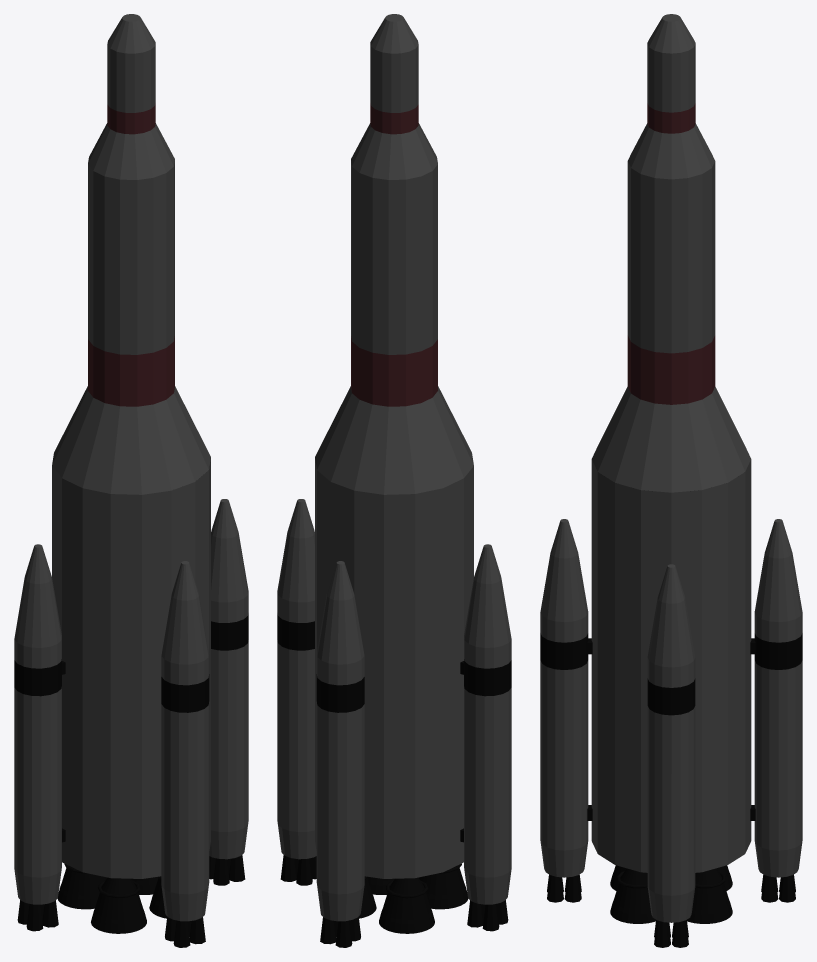
The model's file is Rumraket_boosters.fbx.
3 views of the same model, side by side, from view 1: azimuth 30°, elevation 25°; view 2: azimuth 150°, elevation 25°; view 3: azimuth 270°, elevation 25° (orthographic).
Visible parts, largest first — view 1: Stage1Rocket, Stage2Rocket, Stage1Booster_4, Stage1Booster_3, Stage1Booster_1, Stage2ThrusterProtection_L, Stage3FlightDeck, Stage3ThrusterProtection_L; view 2: Stage1Rocket, Stage2Rocket, Stage1Booster_2, Stage1Booster_3, Stage1Booster_1, Stage2ThrusterProtection_R, Stage3FlightDeck, Stage3ThrusterProtection_R; view 3: Stage1Rocket, Stage2Rocket, Stage1Booster_2, Stage1Booster_4, Stage1Booster_1, Stage3FlightDeck, Stage2ThrusterProtection_L, Stage2ThrusterProtection_R.
Part boxes in pixels (x1,y1,x2,y2): Stage1Rocket: (52,386,210,933); Stage2Rocket: (88,123,174,354); Stage1Booster_4: (161,561,209,947); Stage1Booster_3: (14,544,65,931); Stage1Booster_1: (209,499,248,885); Stage2ThrusterProtection_L: (93,336,174,406); Stage3FlightDeck: (107,14,155,112); Stage3ThrusterProtection_L: (110,103,155,134); Stage1Rocket: (315,386,473,933); Stage2Rocket: (351,123,437,354); Stage1Booster_2: (316,561,364,947); Stage1Booster_3: (460,544,511,931); Stage1Booster_1: (277,499,316,885); Stage2ThrusterProtection_R: (351,336,432,406); Stage3FlightDeck: (370,14,418,112); Stage3ThrusterProtection_R: (370,103,415,134); Stage1Rocket: (591,386,751,923); Stage2Rocket: (627,123,715,353); Stage1Booster_2: (750,519,802,902); Stage1Booster_4: (540,519,592,902); Stage1Booster_1: (647,564,695,947); Stage3FlightDeck: (647,14,695,112); Stage2ThrusterProtection_L: (627,335,671,404); Stage2ThrusterProtection_R: (671,335,715,404).
Bounding box in the file's own units: 1040 × 3853 × 1040.
